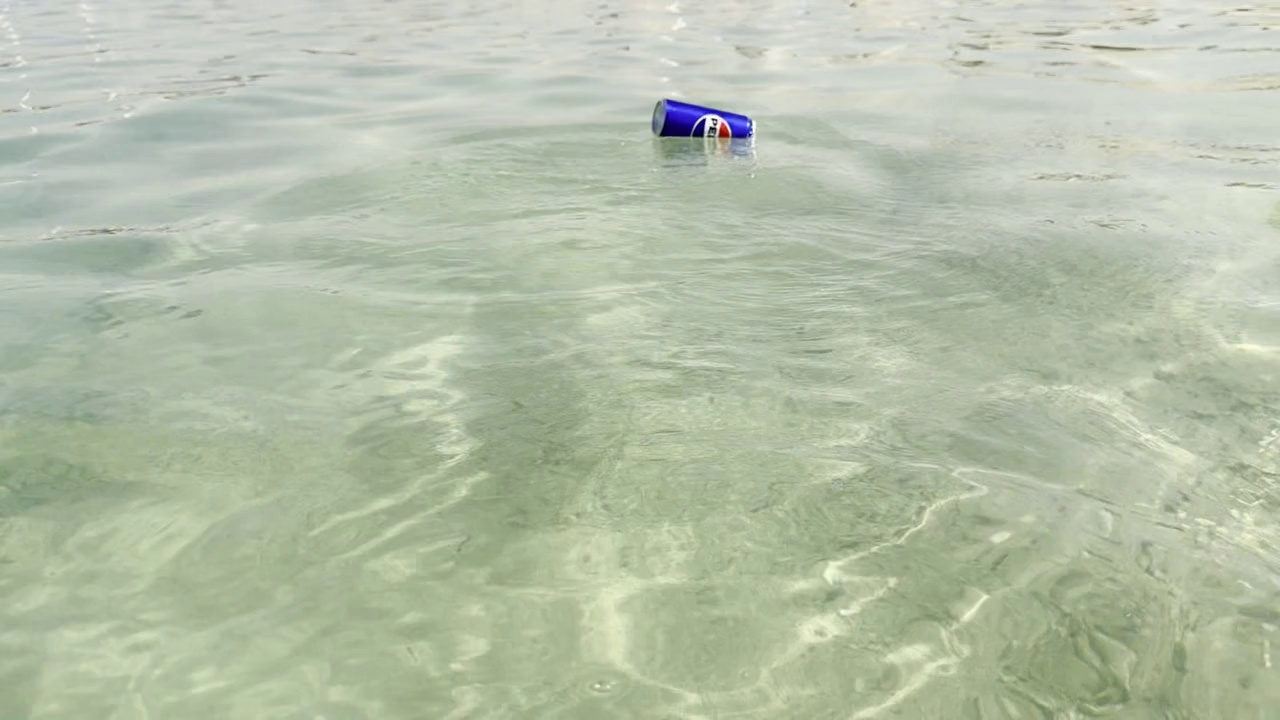debris: (649, 93, 768, 155)
